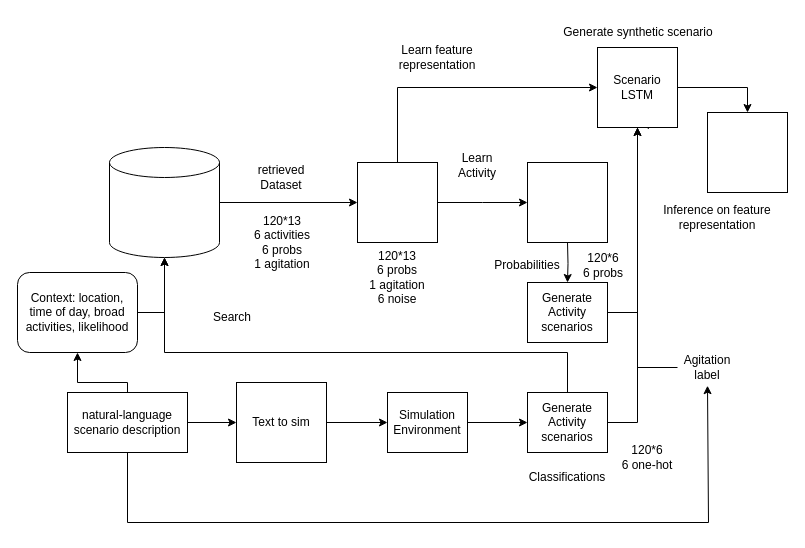
Some shapes in this 805 by 548 pixel diagram are drawn without their labels. The centre of each missing label's shape, as x and y in pixels:
"Context dependent model" goes at point (567, 202).
"Selected Data" goes at point (397, 202).
"Sensor data generator LSTM" goes at point (747, 152).
"Time series Database With activity label" goes at point (164, 202).
